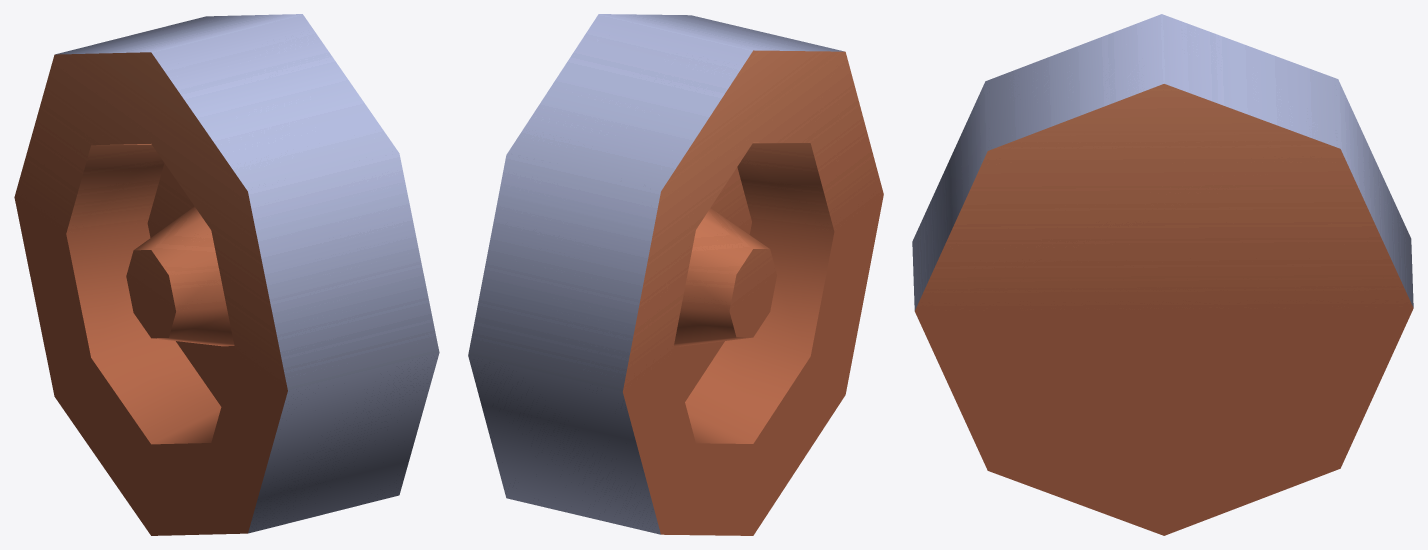
File: wheel.012_lev3.glb
3 renders of one model, left to right at view 1: azimuth 30°, elevation 25°; view 2: azimuth 150°, elevation 25°; view 3: azimuth 270°, elevation 25°, orthographic. The views are drawn at different scales.
Visible parts, largest first — view 1: wheel.012_lev3; view 2: wheel.012_lev3; view 3: wheel.012_lev3.
Boxes of the visible parts, box(x1,y1,x2,y2) form: wheel.012_lev3: box(14, 14, 439, 535); wheel.012_lev3: box(468, 14, 883, 535); wheel.012_lev3: box(912, 14, 1413, 535).
Size of the model in its own units: 0.8257 by 2.39 by 2.4.
1 material, 1 textured.
